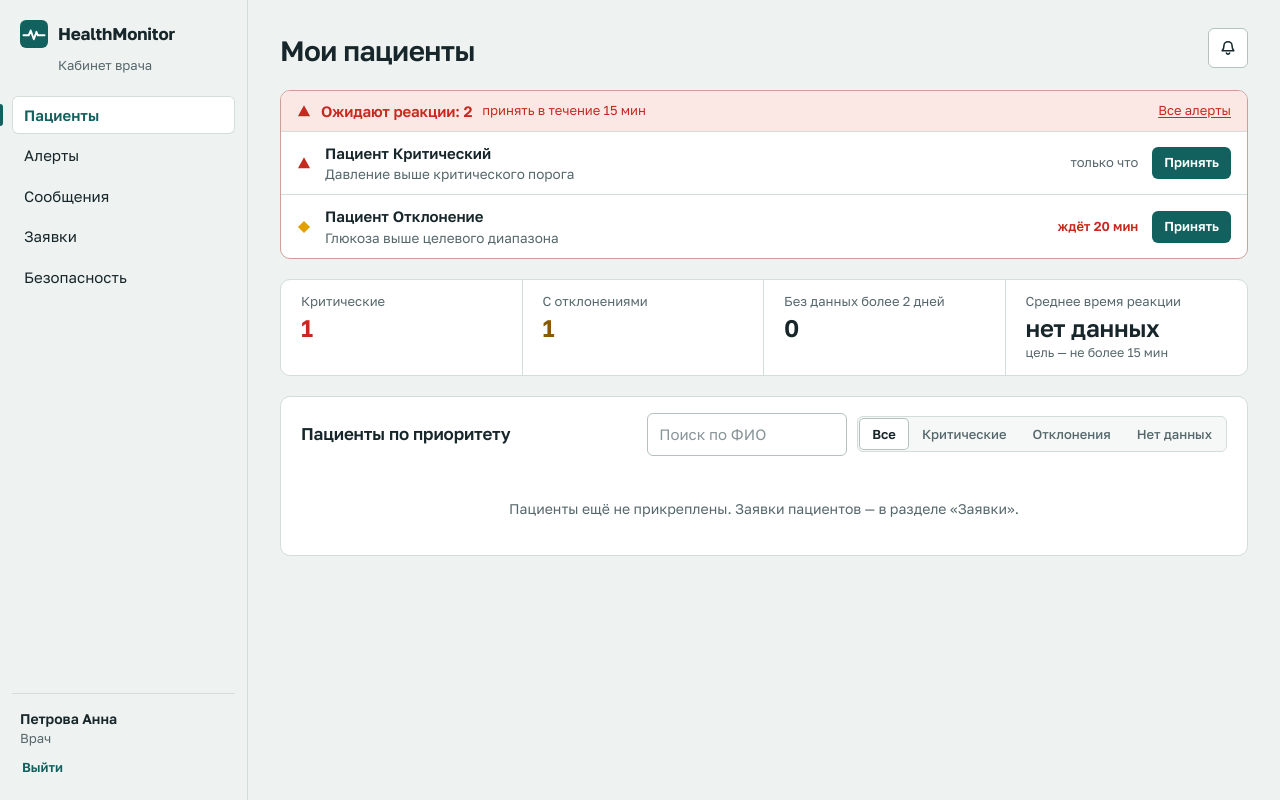
Test case: doctor cabinet › alarm queue shows open alerts by severity and acknowledges in one click
Click the button with aria-label "Принять алерт: Пациент Критический".
click(1192, 163)  # box [1152, 147, 1231, 179]
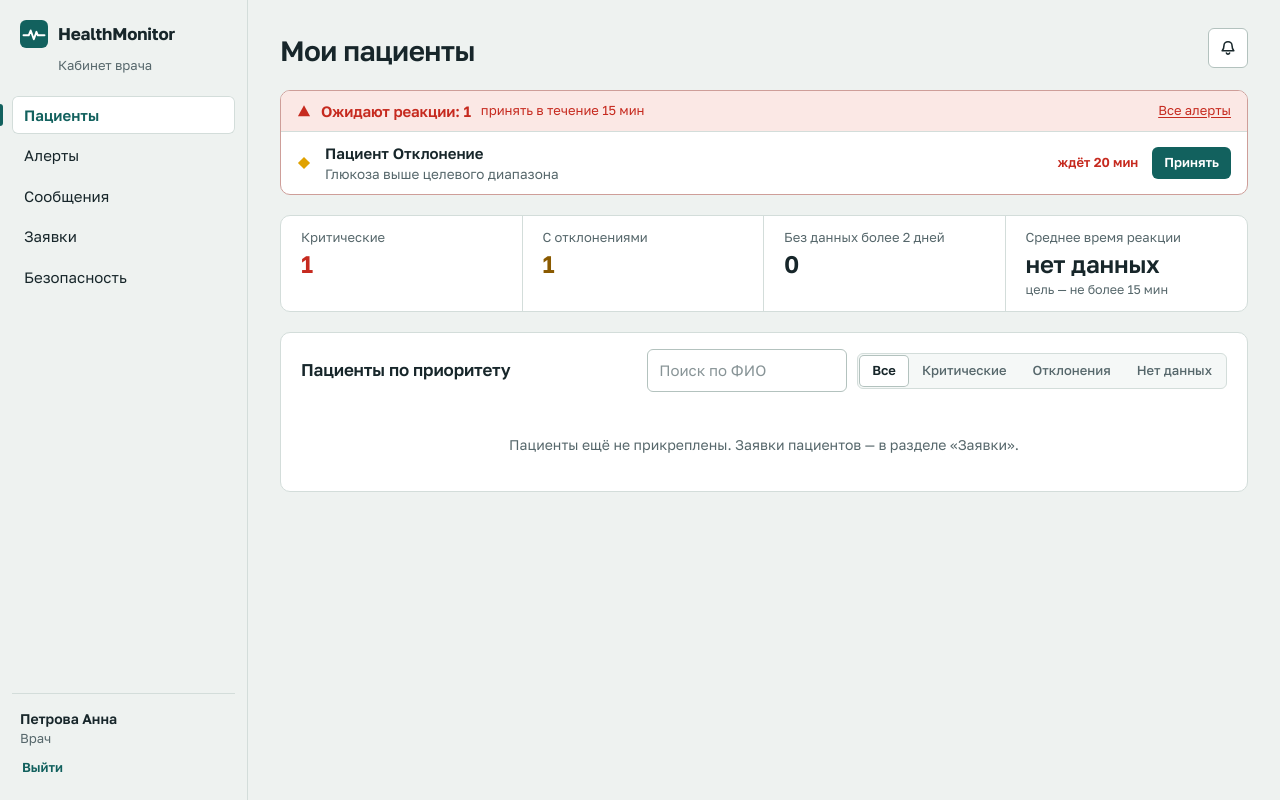
Expected: the element "Ожидают реакции: 1" is shown, [280, 90, 1248, 195]
